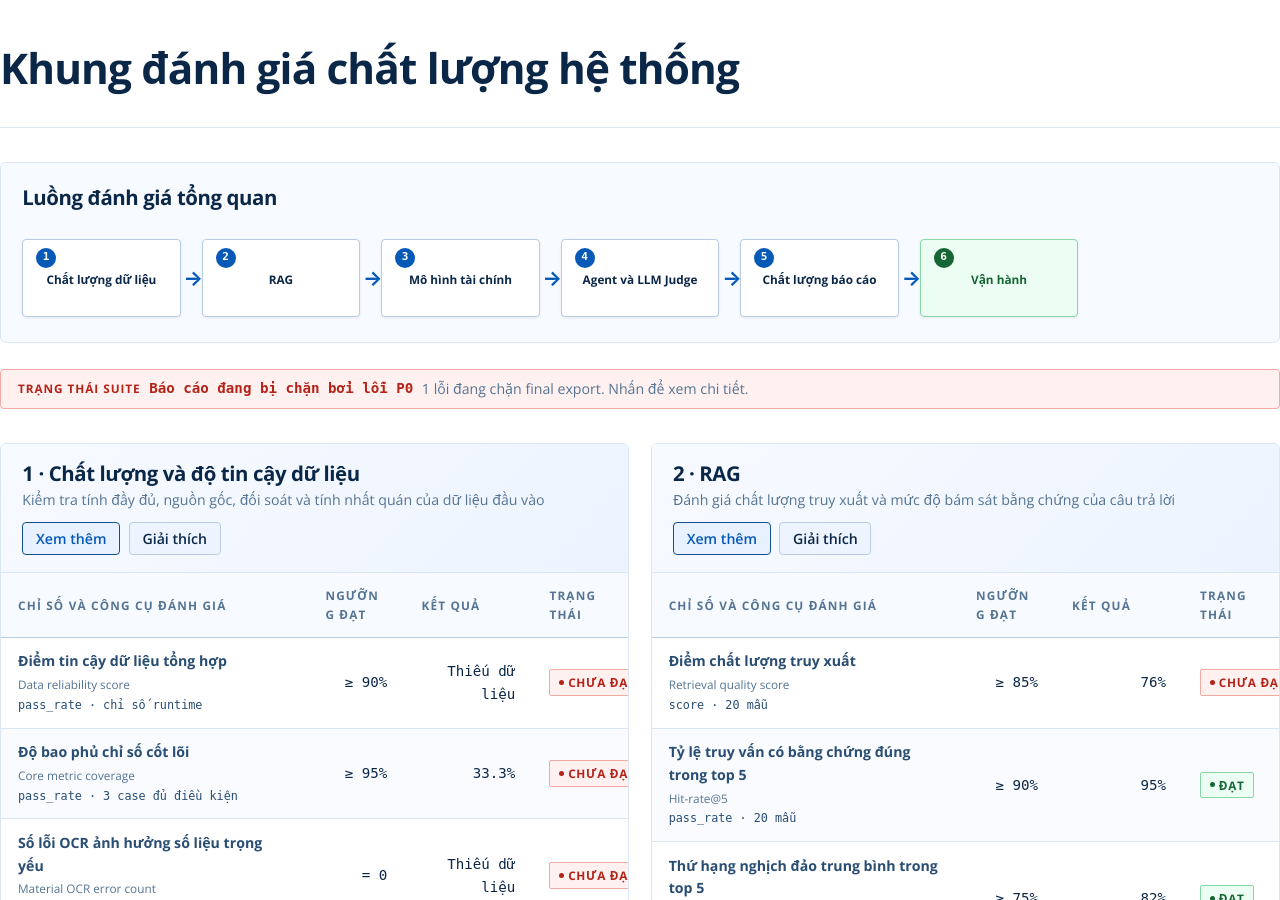
EvalDashboardPage › shows runtime calculation details in the layer explanation dialog
Check: the text "Báo cáo đang bị chặn bởi lỗi P0" is shown, box [149, 378, 413, 399]
Step 1. Click the button "Giải thích" below "1 · Chất lượng và độ tin cậy dữ liệu" → (175, 539), box [129, 522, 221, 556]
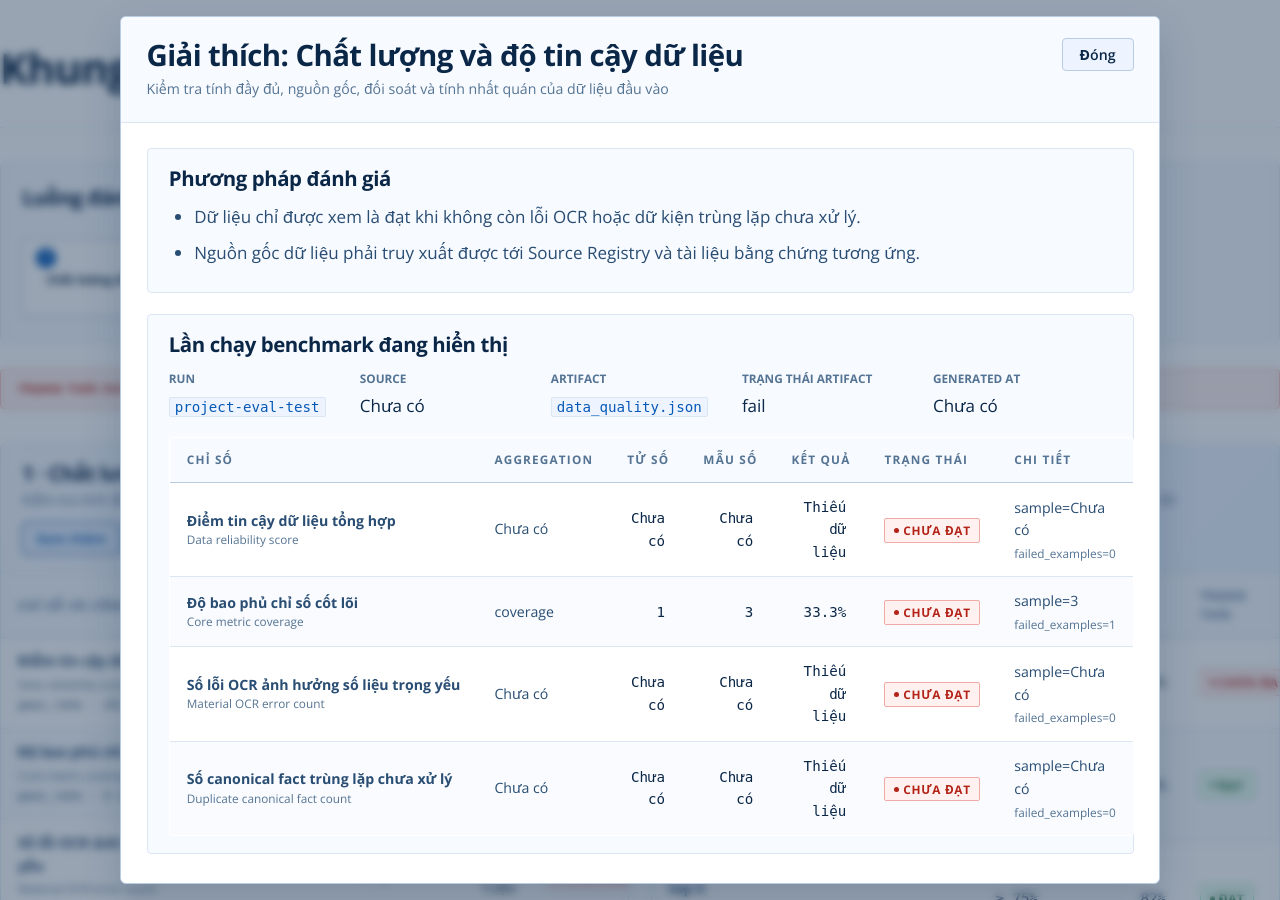
Check: the dialog is shown
Check: the heading "Lần chạy benchmark đang hiển thị" is shown, box [169, 330, 508, 358]
Check: the text "data_quality.json" is shown, box [551, 397, 708, 417]
